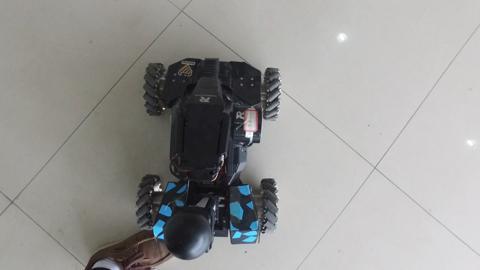chariot: (105, 20, 298, 261)
